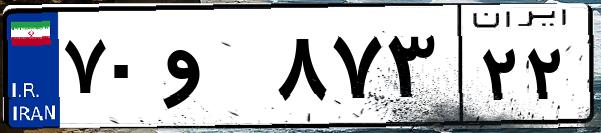0: (110, 28, 158, 98)
2: (475, 38, 525, 113), (525, 38, 570, 115)
3: (385, 28, 445, 110)
7: (330, 28, 385, 110), (57, 26, 110, 100)
8: (270, 28, 330, 110)
و: (158, 20, 270, 120)
